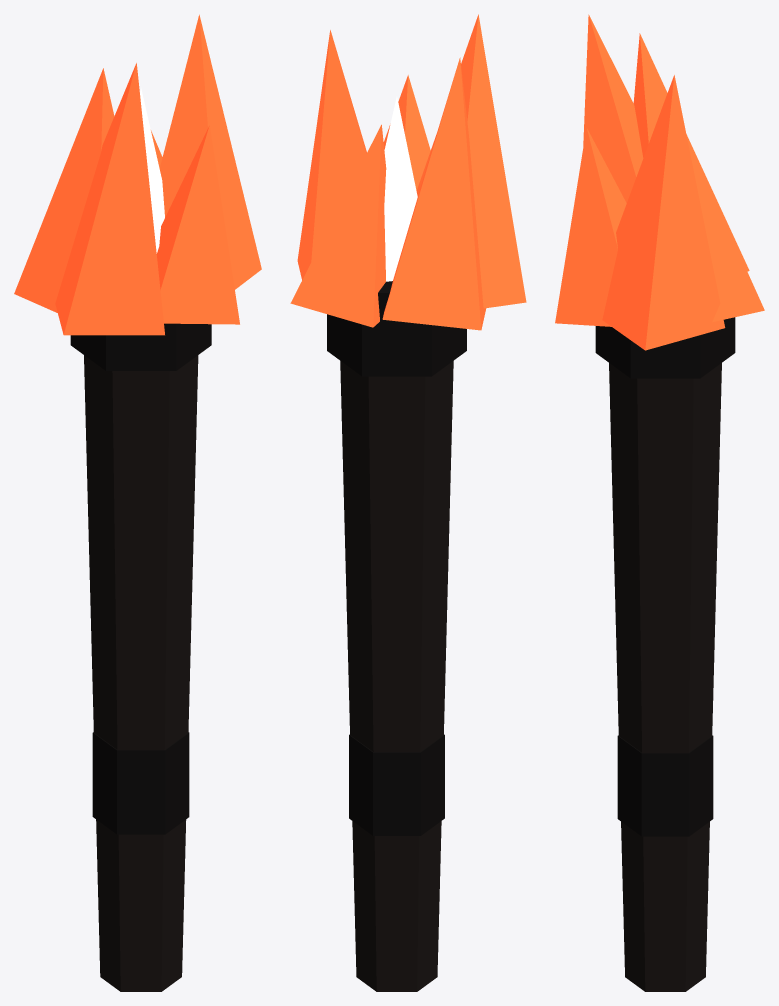
The model's file is brand.glb.
3 views of the same model, side by side, from view 1: azimuth 30°, elevation 25°; view 2: azimuth 150°, elevation 25°; view 3: azimuth 270°, elevation 25° (orthographic).
Visible parts, largest first — view 1: brand; view 2: brand; view 3: brand.
Boxes of the visible parts, bbox=[...] form: brand: bbox=[14, 14, 261, 991]; brand: bbox=[290, 14, 526, 991]; brand: bbox=[555, 14, 764, 991].
Size of the model in its own units: 0.1346 by 0.5661 by 0.1143.
